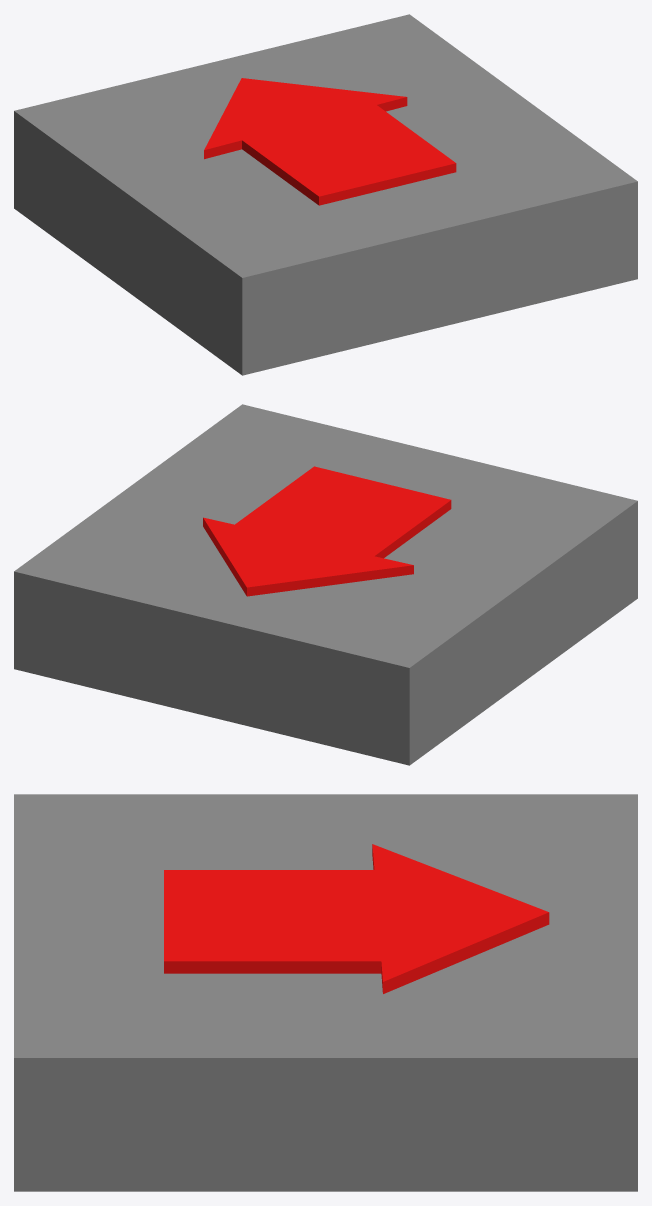
File: Switch.fbx
3 views of the same model, one above another, from view 1: azimuth 30°, elevation 25°; view 2: azimuth 150°, elevation 25°; view 3: azimuth 270°, elevation 25° (orthographic). The views are drawn at different scales.
Parts seen in each view (by area): view 1: SwtichBottom, SwitchArrowS; view 2: SwtichBottom, SwitchArrowS; view 3: SwtichBottom, SwitchArrowS.
Part boxes in pixels (bbox=[...]): SwtichBottom: bbox=[14, 14, 637, 375]; SwitchArrowS: bbox=[204, 78, 456, 205]; SwtichBottom: bbox=[14, 404, 637, 765]; SwitchArrowS: bbox=[203, 466, 451, 596]; SwtichBottom: bbox=[14, 794, 637, 1191]; SwitchArrowS: bbox=[164, 844, 549, 993].
Bounding box in the file's own units: 0.9654 × 0.2488 × 0.9654.
